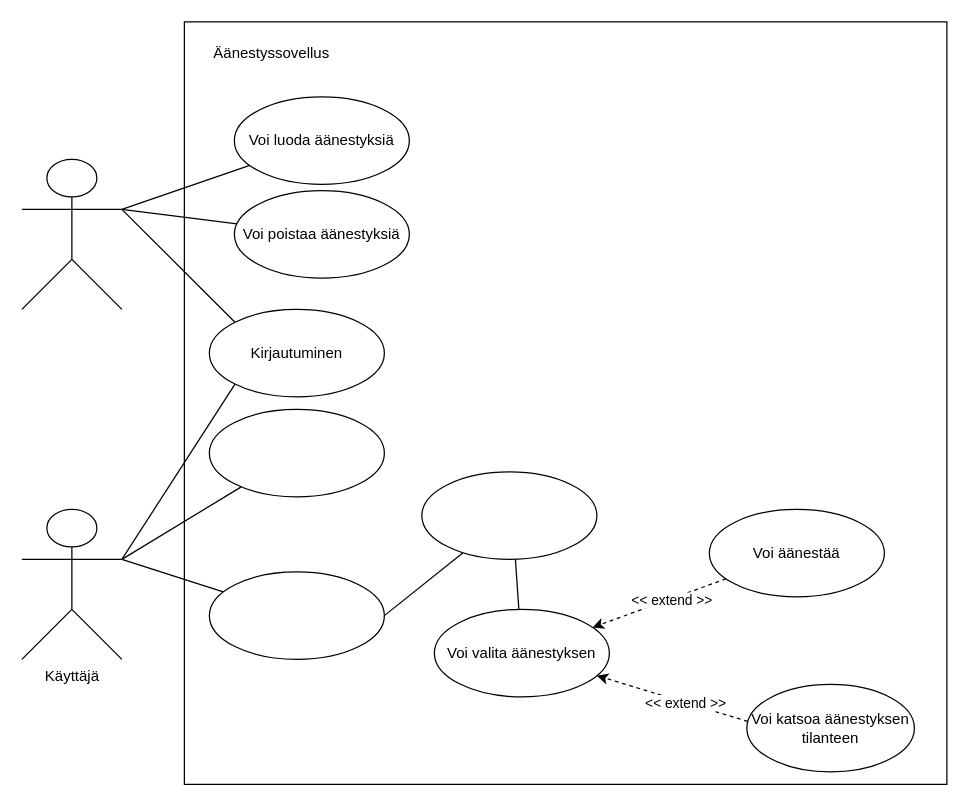
This 969x806 diagram has some shape labels left out. The shapes that lost their labels are listed below. From the top down, each one's centre as x and y in pixels, then its label:
At (x=71, y=233): "Ylläpitäjä".
At (x=296, y=452): "Rekisteröityminen".
At (x=509, y=515): "Näkee äänestykset".
At (x=296, y=615): "Etusivu".
